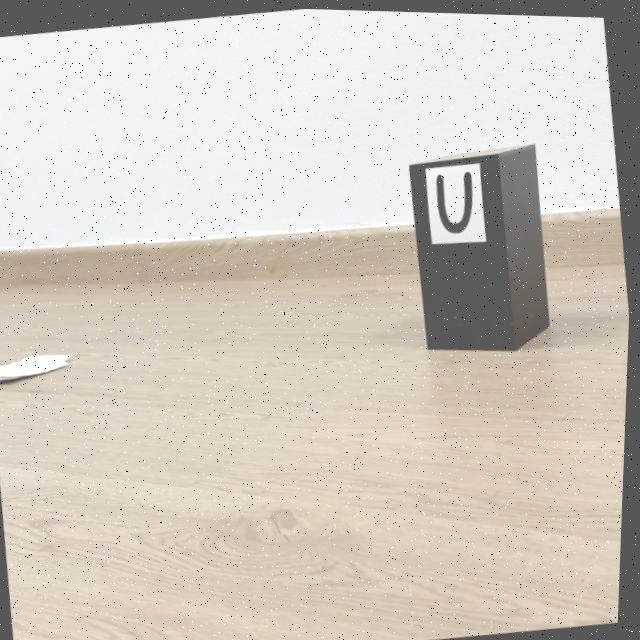U: (437, 168, 474, 231)
